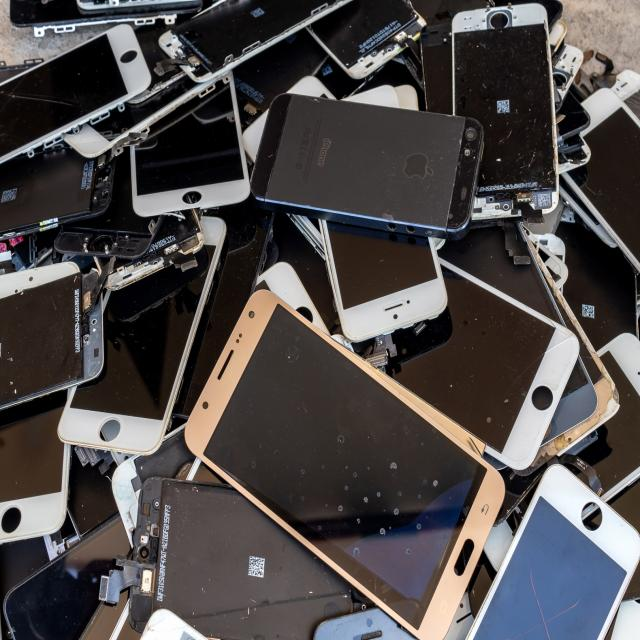heap: (11, 1, 640, 640)
metel: (203, 273, 523, 640), (248, 83, 491, 239), (84, 197, 215, 468), (420, 5, 567, 240), (470, 456, 629, 640), (2, 34, 162, 148)
